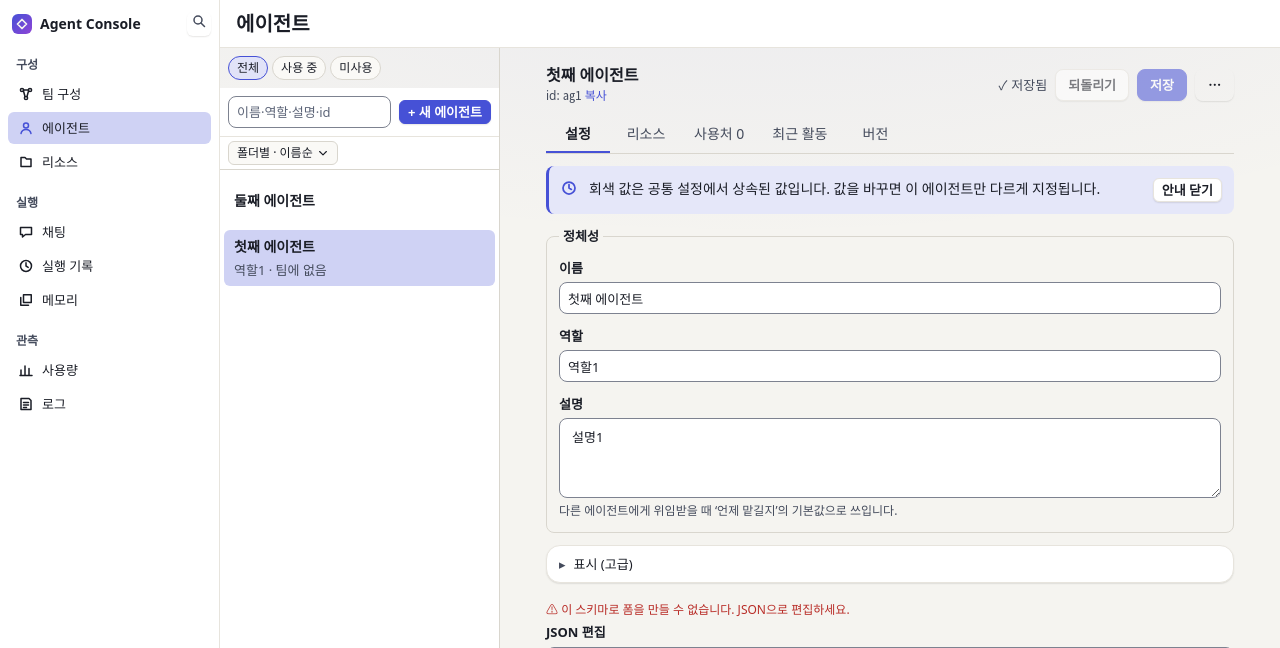
it: 내보내기: 형식·항목·옵션 › 카드가 1개면 미리 선택되지만 단계를 건너뛰지 않는다
Click the button named "메뉴".
click(1214, 84)  # box [1195,68,1234,100]
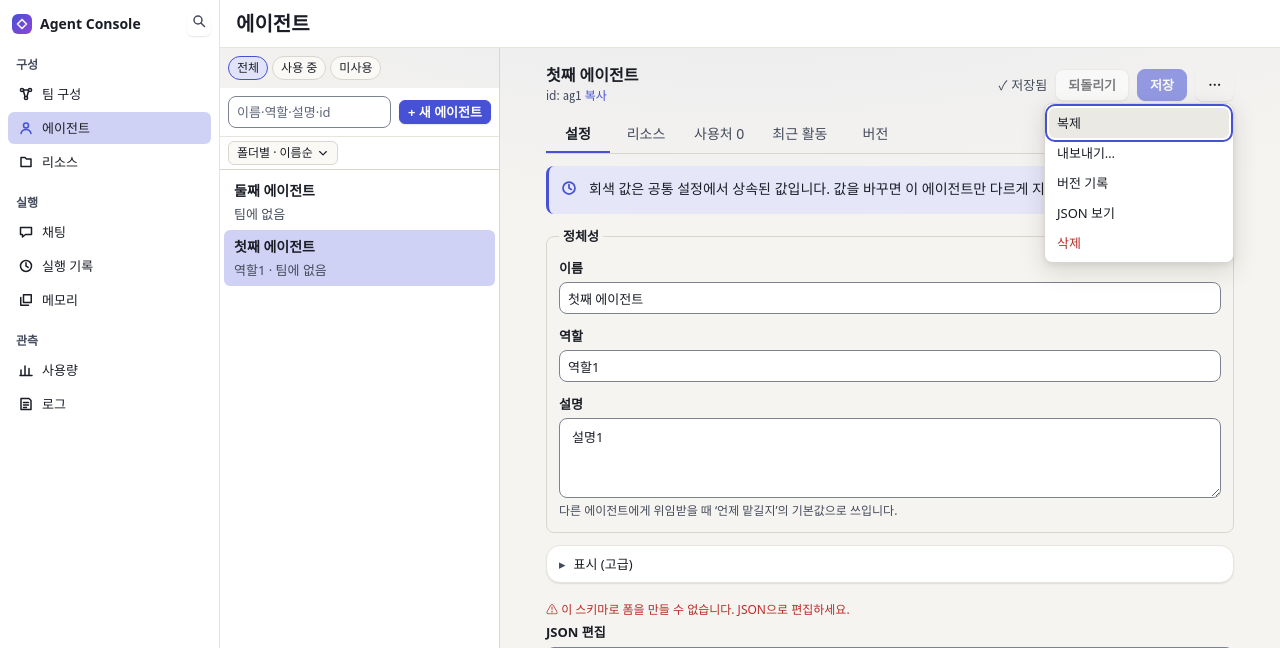
Click the menu item "내보내기…".
click(1139, 152)  # box [1049,138,1229,168]
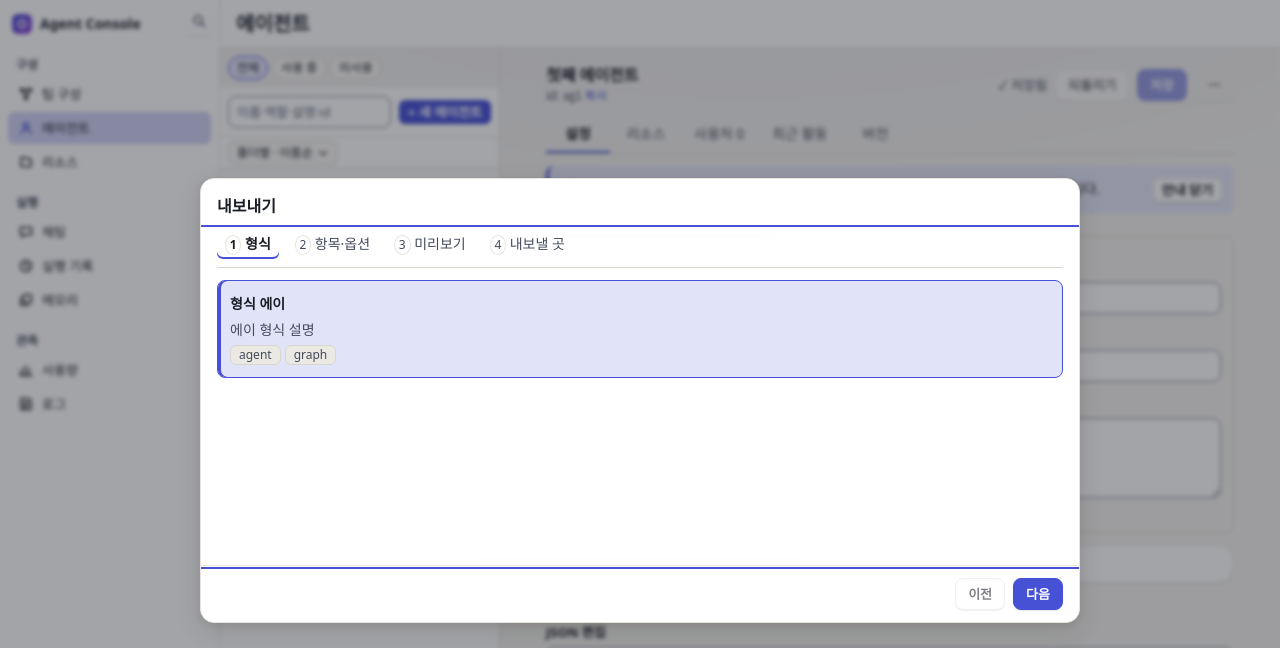
Expected: the list item "1 형식" is shown, [217,228,279,258]
